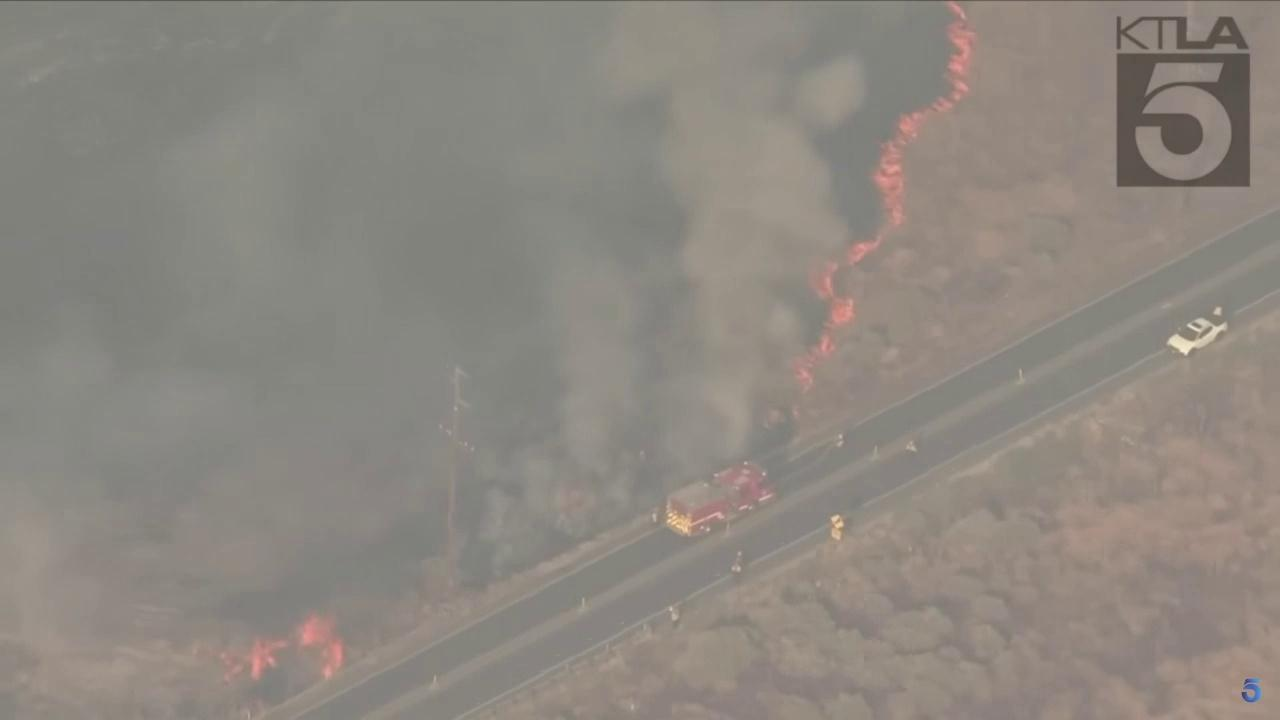fire: (783, 0, 979, 395), (188, 609, 345, 684)
smoke: (0, 0, 918, 701)
